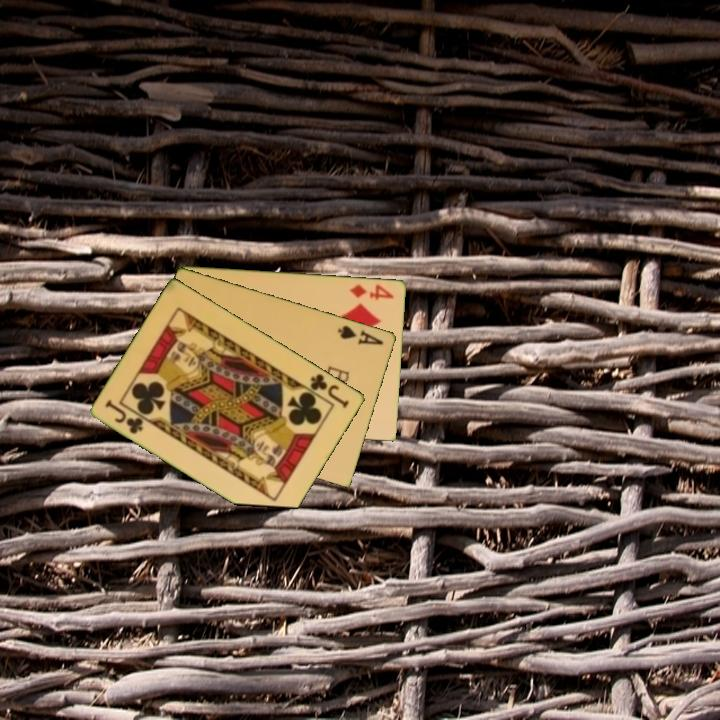4d: (347, 281, 397, 303)
As: (334, 321, 386, 348)
Jc: (307, 370, 352, 411), (102, 396, 147, 437)
